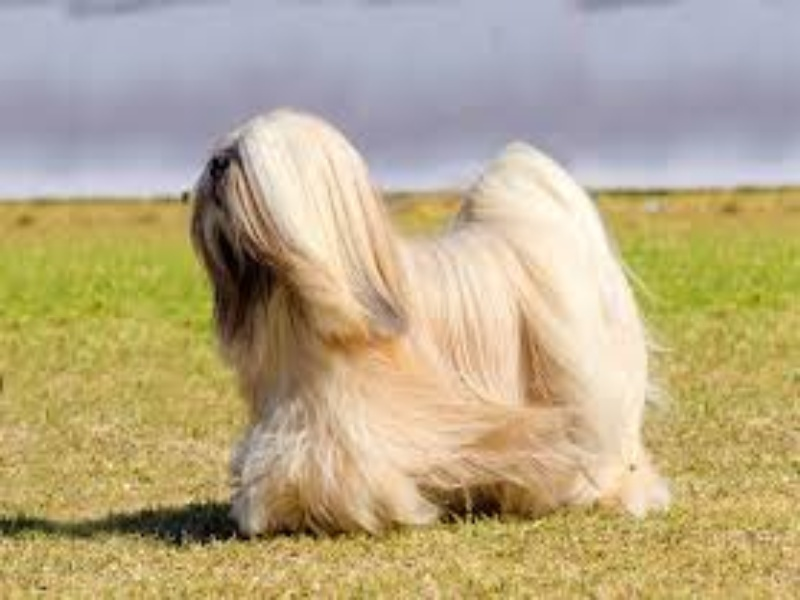dog: (181, 103, 685, 531)
